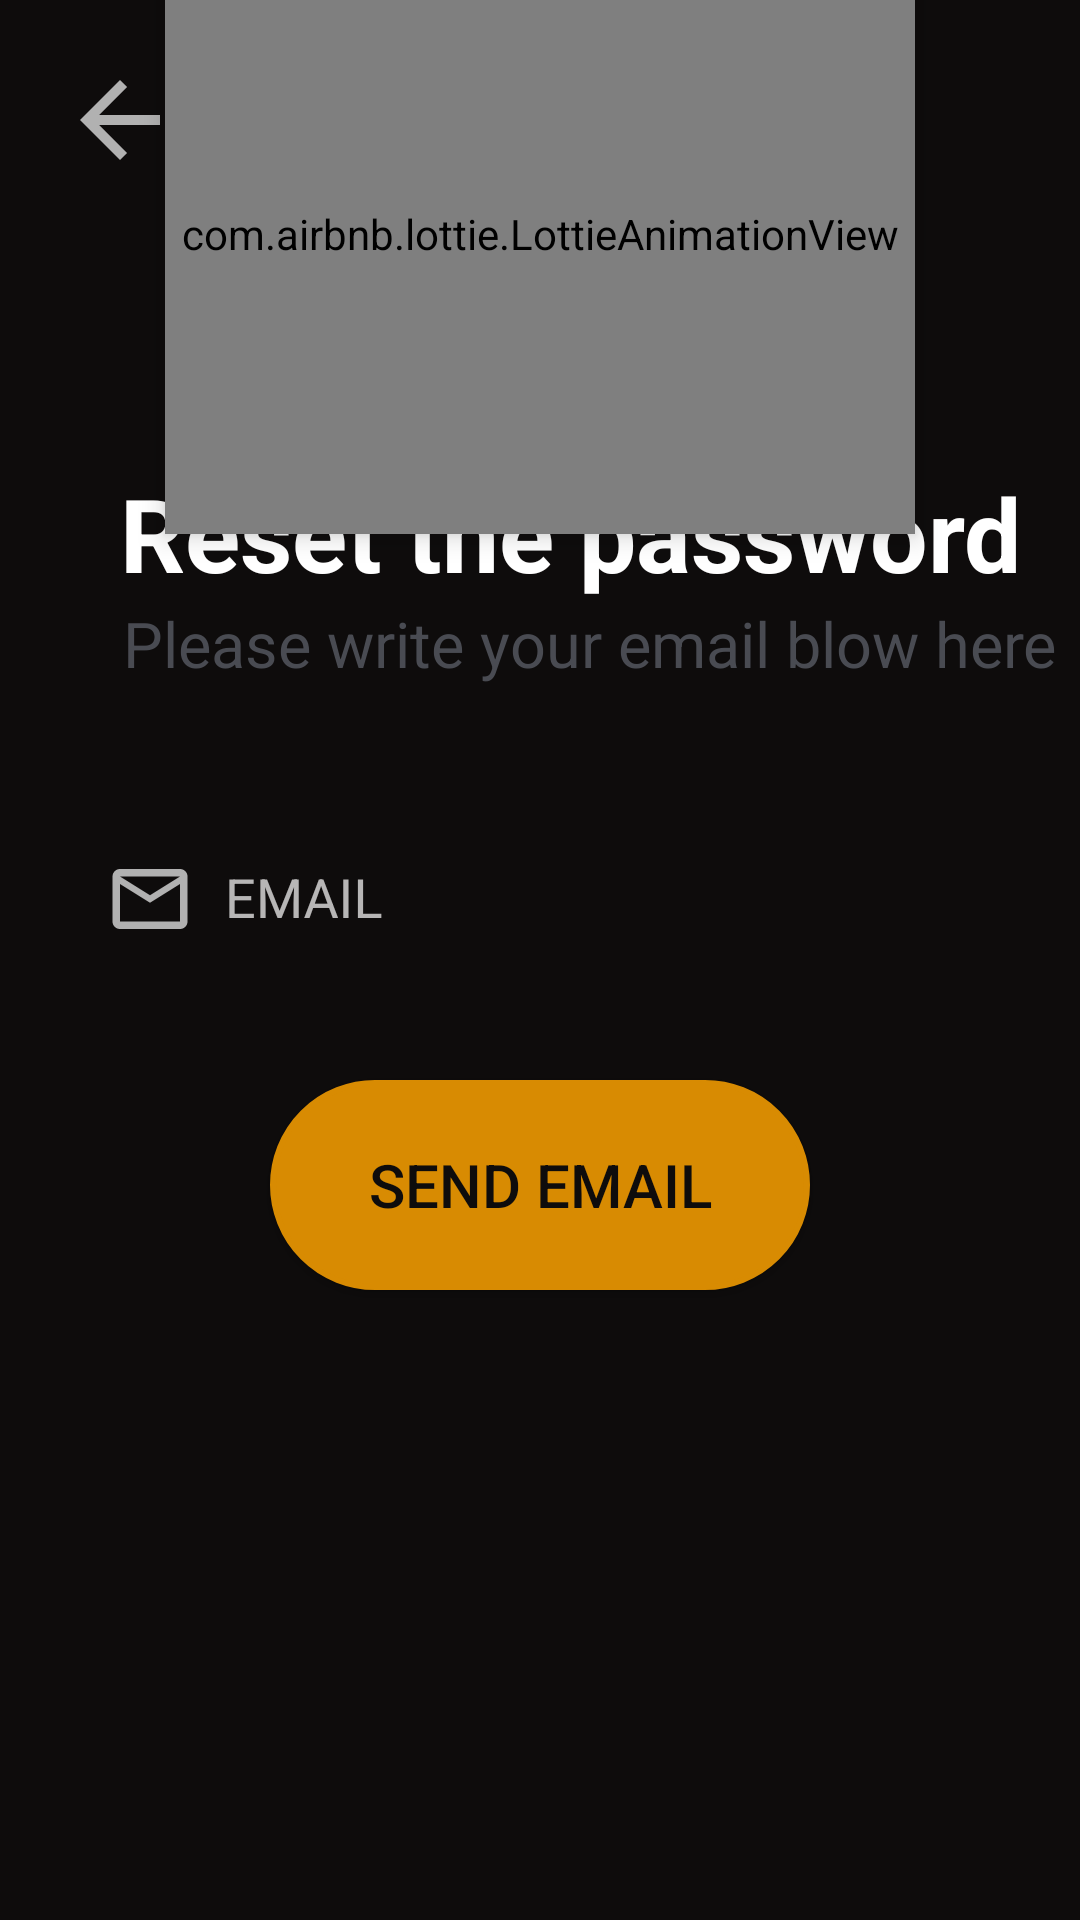

Icons on this 1080px×1920px Android screen, each with the point to tap as [x,y]:
arrow back: [130,120]
